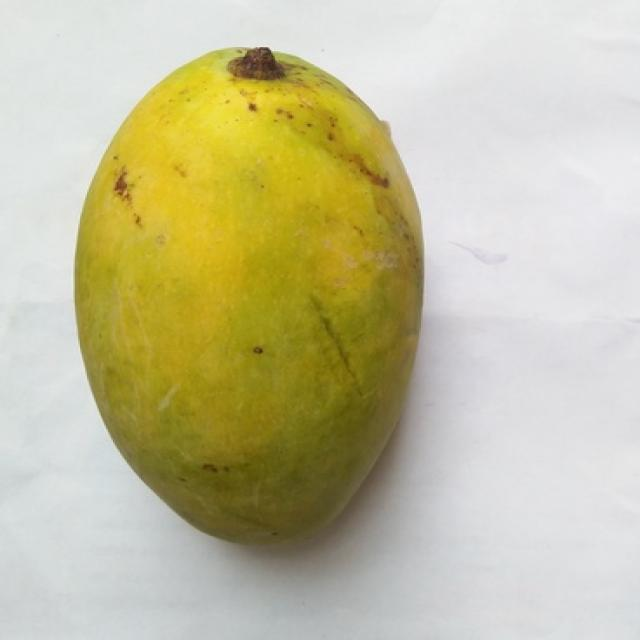Mango: (75, 48, 421, 542)
